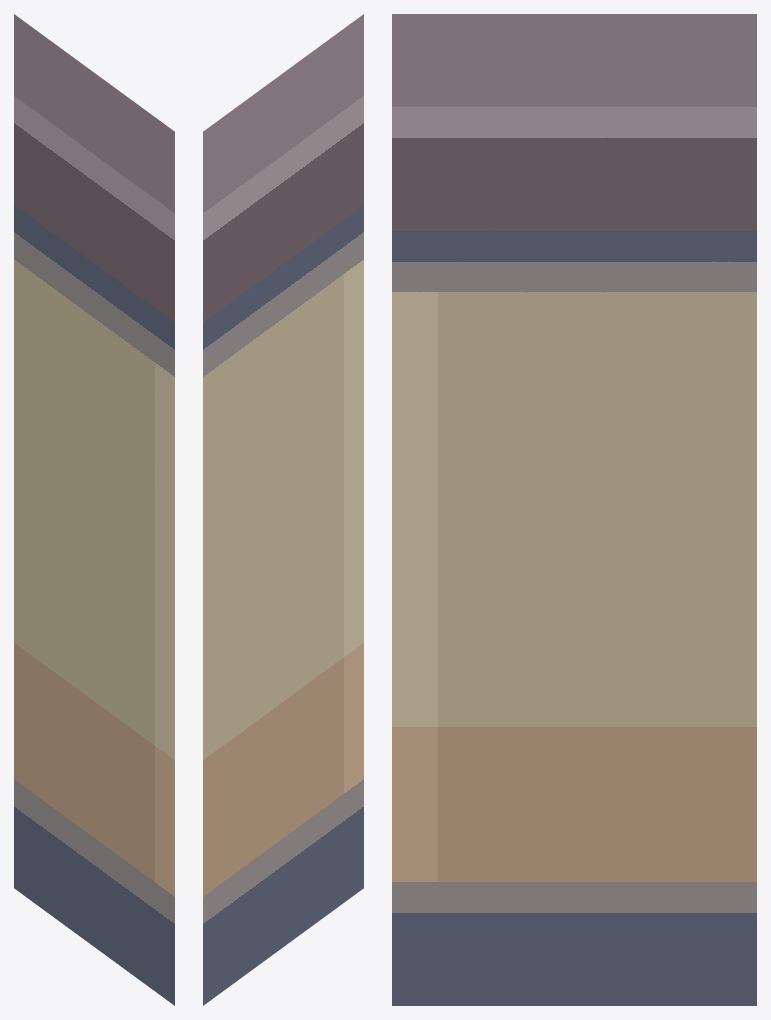
The picture shows the model from 3 angles, left to right: view 1: azimuth 30°, elevation 25°; view 2: azimuth 150°, elevation 25°; view 3: azimuth 270°, elevation 25°; orthographic projection. The views are drawn at different scales.
Bounding box in the file's own units: 0 × 3 × 1.
Materials: 1 (1 with a texture image).
